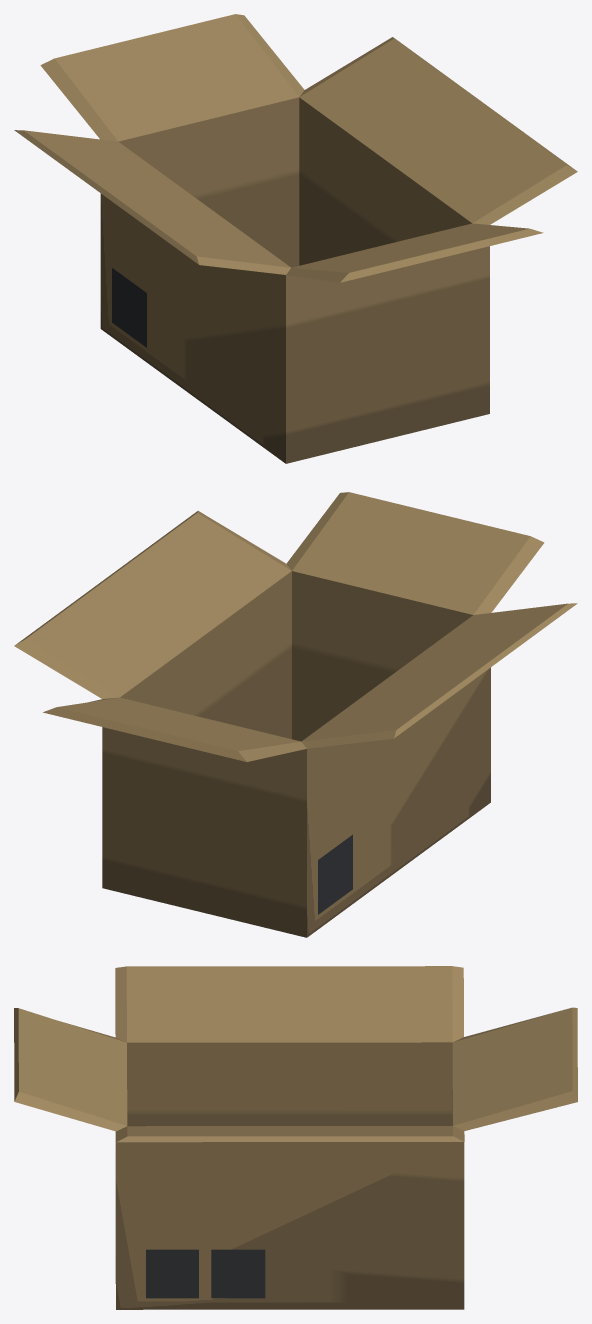
Rendered from SM_Prop_CardboardBox_03.fbx.
3 views of the same model, one above another, from view 1: azimuth 30°, elevation 25°; view 2: azimuth 150°, elevation 25°; view 3: azimuth 270°, elevation 25° (orthographic). The views are drawn at different scales.
Parts seen in each view (by area): view 1: SM_Prop_CardboardBox_03; view 2: SM_Prop_CardboardBox_03; view 3: SM_Prop_CardboardBox_03.
Boxes of the visible parts, x1=… form: SM_Prop_CardboardBox_03: x1=14, y1=14, x2=577, y2=463; SM_Prop_CardboardBox_03: x1=14, y1=492, x2=577, y2=937; SM_Prop_CardboardBox_03: x1=14, y1=966, x2=577, y2=1309.
Size of the model in its own units: 60.94 by 34.61 by 83.01.
Materials: 1 (1 with a texture image).
